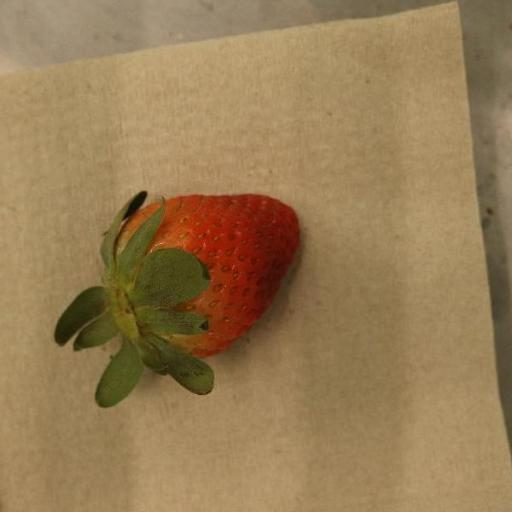Strawberry: (53, 191, 300, 410)
